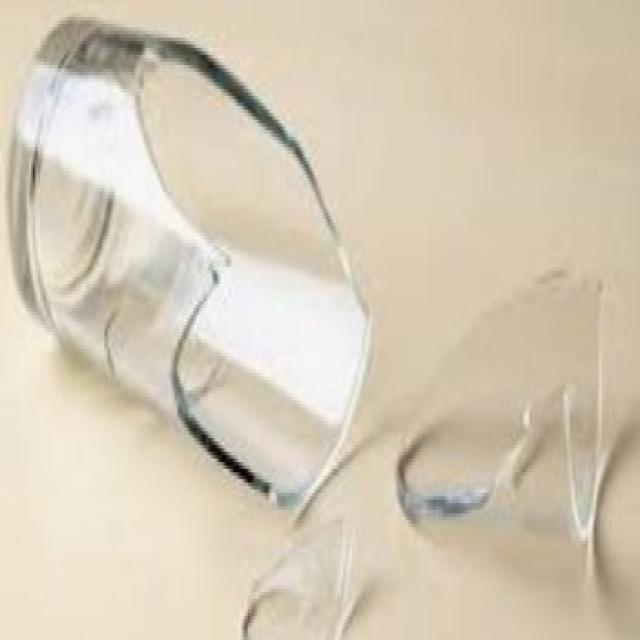electronic: (7, 13, 378, 514)
